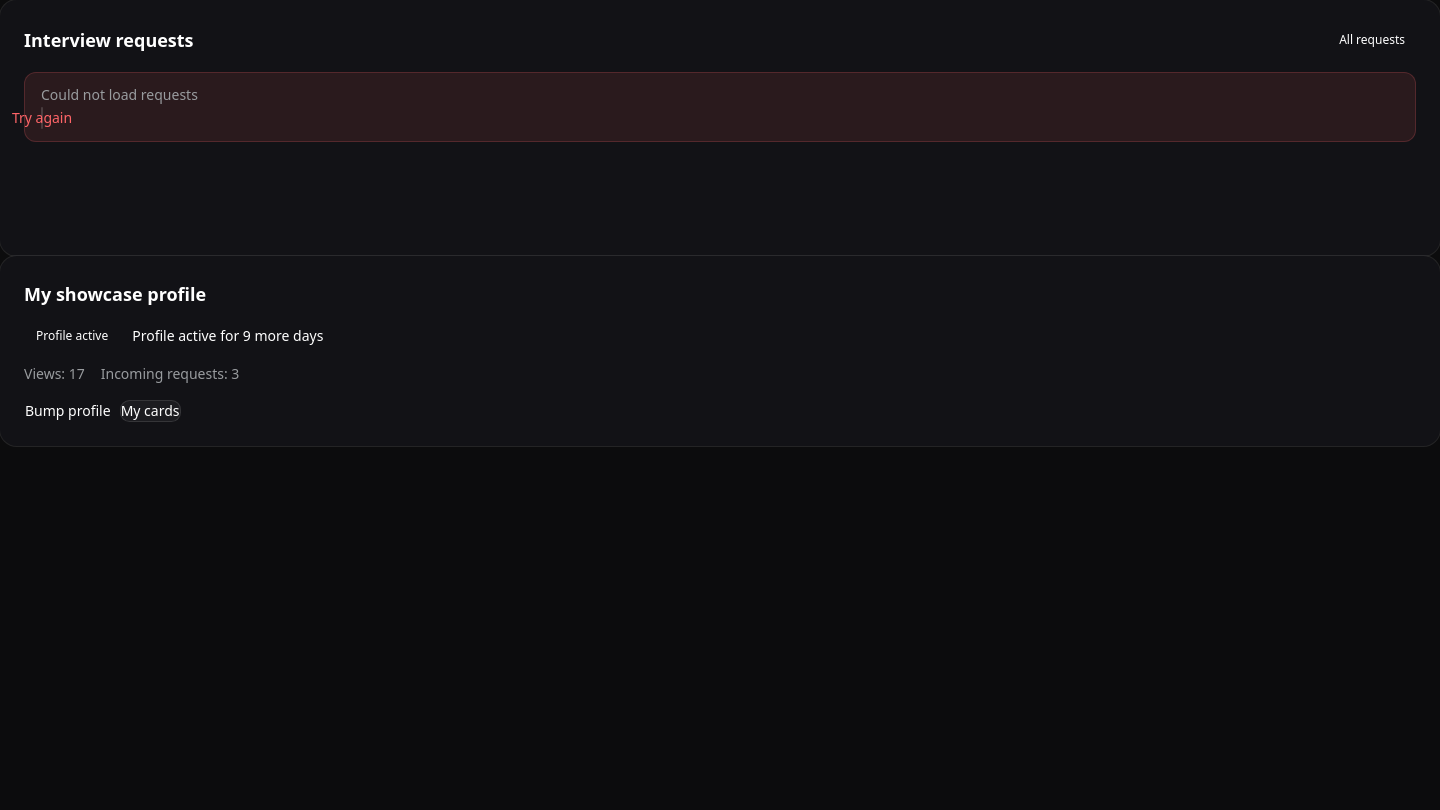
Test case: изолирует ошибки загрузки match-requests и поддерживает повторную попытку
Expected: the text "Profile active" is shown, 36,327 -> 108,344
Click the button "Try again".
click(42, 118)  # box 41,107 -> 43,129
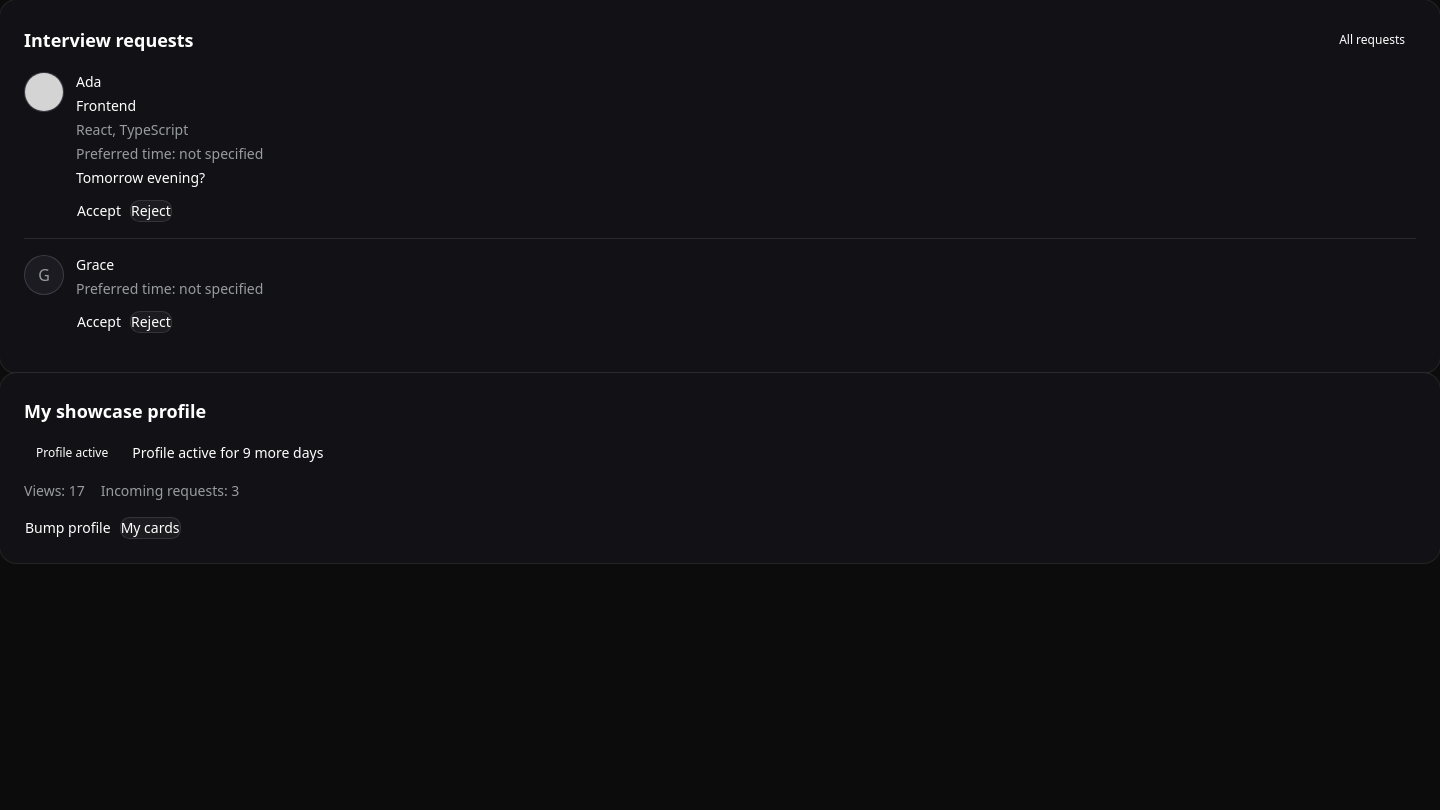
Expected: the message "Could not load requests Try again" is gone
